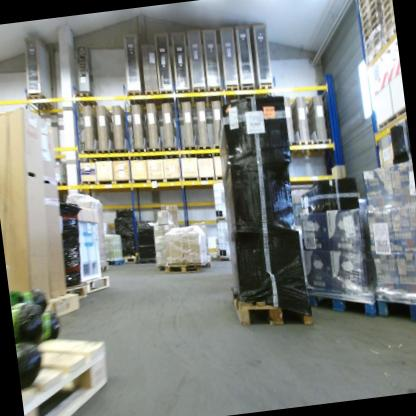pallet: (16, 324, 117, 416), (230, 273, 316, 332), (304, 278, 377, 324), (373, 281, 416, 328), (27, 88, 59, 118), (53, 279, 87, 305), (163, 259, 203, 280), (82, 272, 110, 296), (72, 86, 99, 110), (361, 17, 384, 44), (357, 0, 381, 24), (358, 6, 381, 31), (359, 12, 382, 36), (362, 25, 384, 50), (189, 83, 208, 106), (125, 88, 145, 109), (158, 85, 177, 106), (313, 137, 333, 156), (175, 87, 193, 108), (206, 84, 224, 105), (296, 138, 316, 156), (282, 138, 299, 159), (106, 254, 128, 270), (358, 0, 380, 16), (196, 141, 214, 159), (223, 84, 240, 103), (239, 82, 256, 101), (255, 82, 274, 99), (113, 145, 133, 161), (143, 85, 159, 105), (183, 141, 199, 159), (132, 145, 148, 163), (146, 144, 165, 159), (162, 143, 179, 159), (384, 23, 397, 43), (96, 147, 114, 161), (80, 145, 98, 158), (196, 258, 212, 272), (122, 253, 138, 266), (382, 16, 395, 32), (381, 2, 394, 18), (381, 11, 394, 26), (358, 0, 379, 9), (153, 259, 167, 271), (381, 0, 393, 11), (211, 141, 220, 155)
